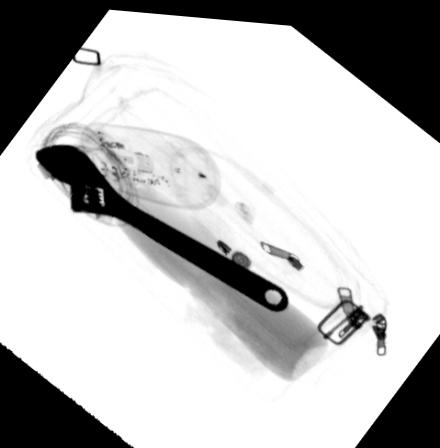Wrench: (33, 143, 289, 310)
